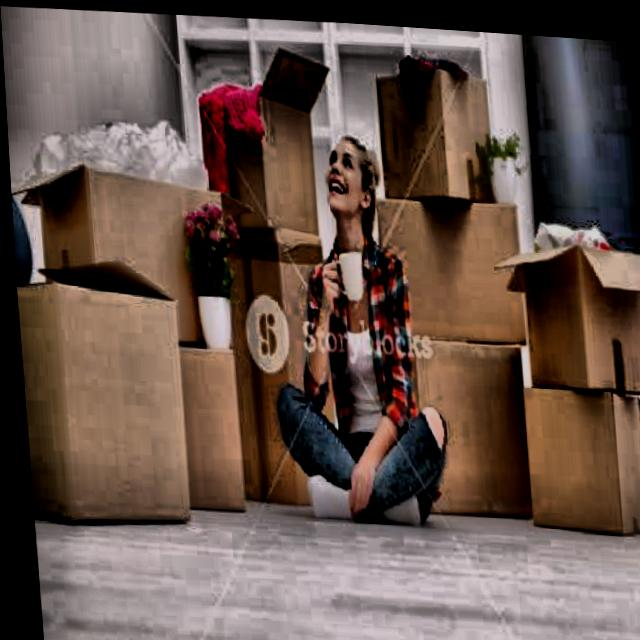Cardbox: (12, 263, 210, 527), (30, 154, 238, 352), (363, 179, 530, 352), (107, 329, 252, 520), (499, 216, 640, 409), (358, 36, 502, 193), (197, 54, 323, 233), (514, 365, 640, 540)
